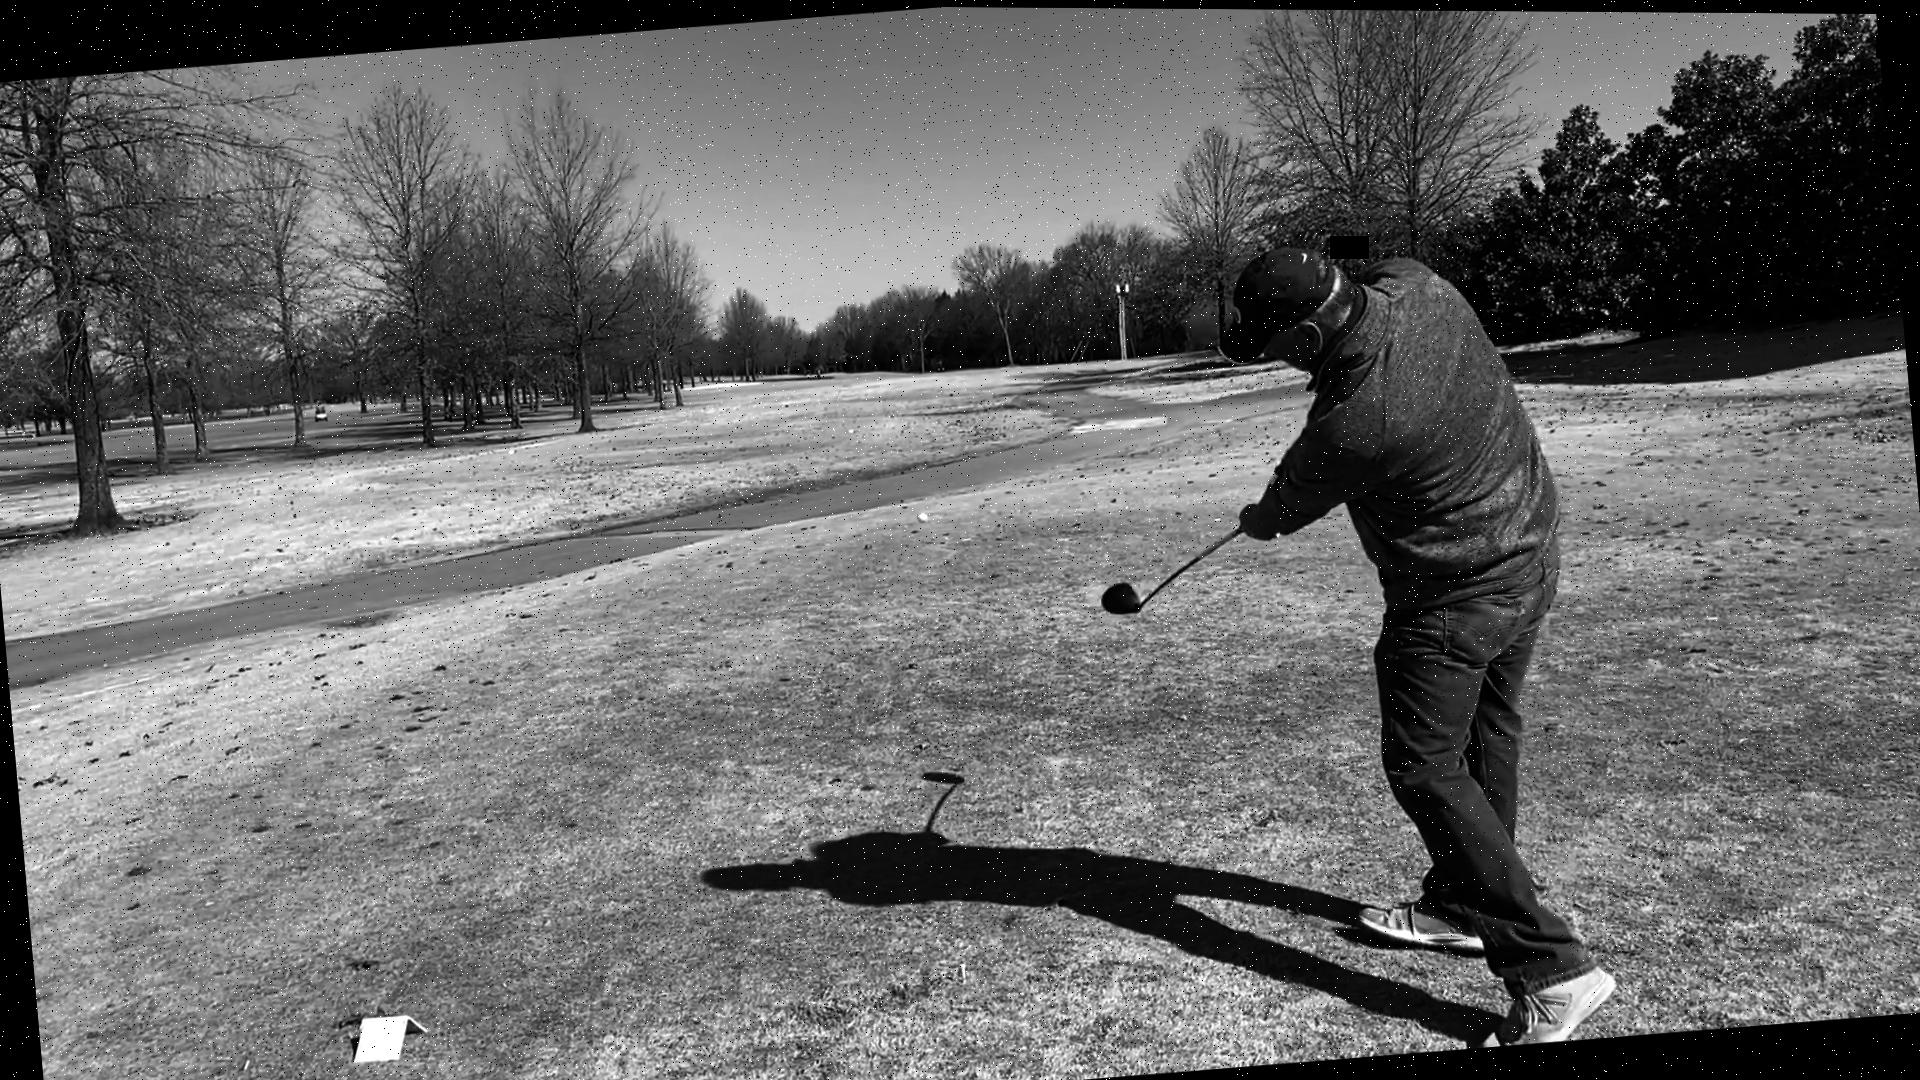ClubHead: (1091, 568, 1164, 621)
GolfBall: (916, 509, 930, 522)
